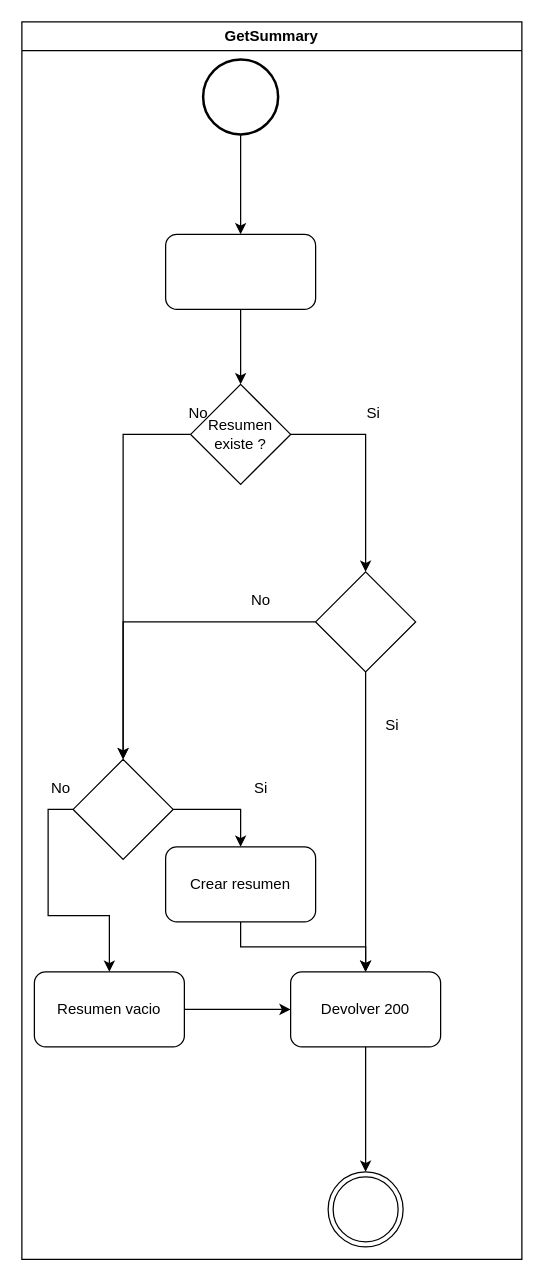
Some shapes in this 544 by 1281 pixel diagram are drawn without their labels. The centre of each missing label's shape, as x and y in pixels:
Buscar resumen: point 240,271
Resumen actual ?: point 365,621
Suficientes opiniones ?: point 122,808
